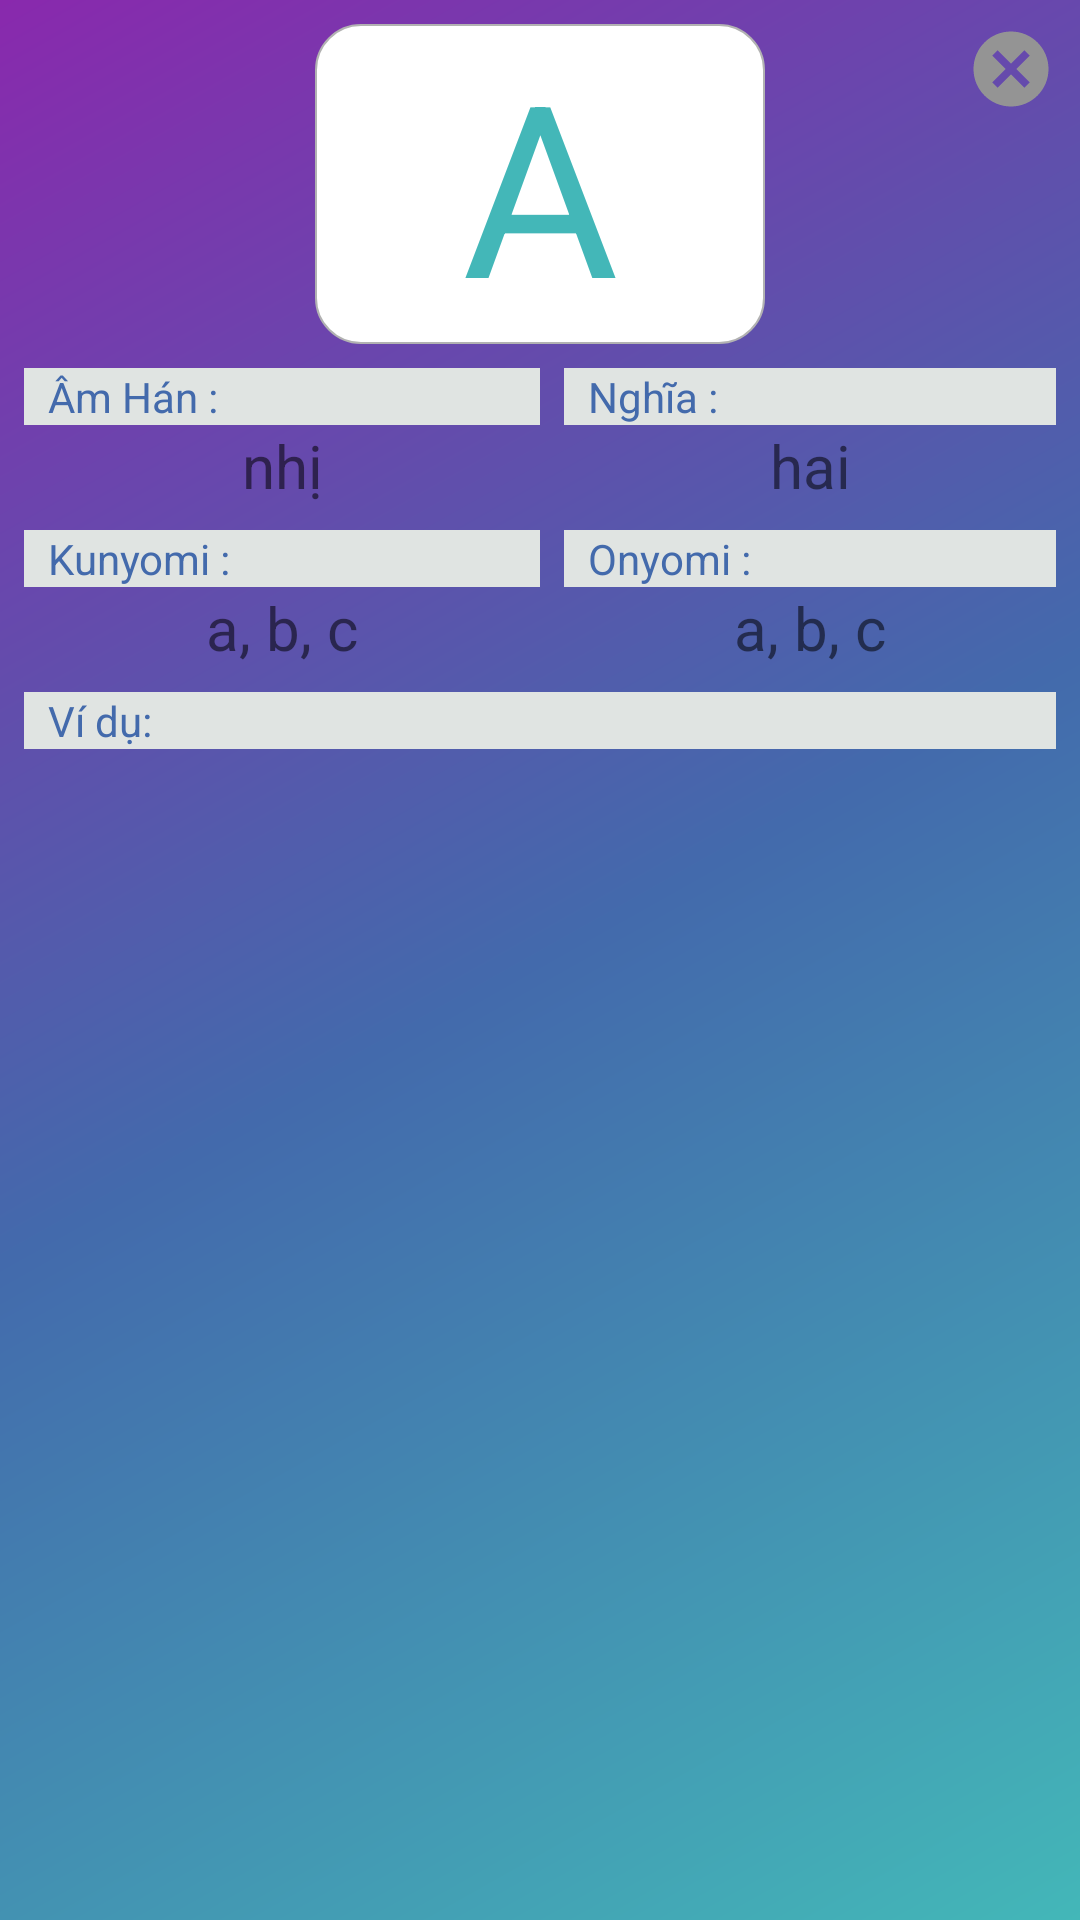

Point at icon controls on the screen. Image size 1080×1920, points as (x=x, y=y).
cancel: (x=1011, y=69)
